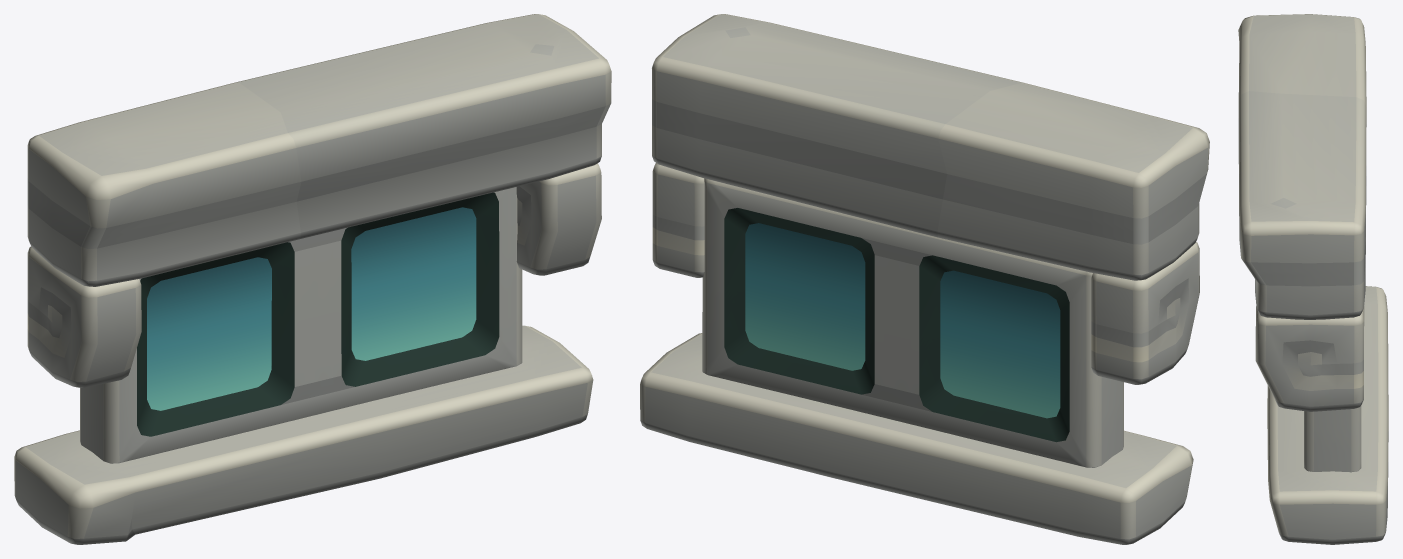
File: window_ornate7_LOD_setup.fbx
3 renders of one model, left to right at view 1: azimuth 30°, elevation 25°; view 2: azimuth 150°, elevation 25°; view 3: azimuth 270°, elevation 25°, orthographic. The views are drawn at different scales.
Visible parts, largest first — view 1: window_ornate7_LOD0; view 2: window_ornate7_LOD0; view 3: window_ornate7_LOD0.
Boxes of the visible parts, left/top/right/bottom form: window_ornate7_LOD0: left=14, top=14, right=611, bottom=544; window_ornate7_LOD0: left=640, top=14, right=1209, bottom=544; window_ornate7_LOD0: left=1238, top=14, right=1388, bottom=544.
Size of what is drawn, in the model's own units: 257 by 184 by 75.75.
